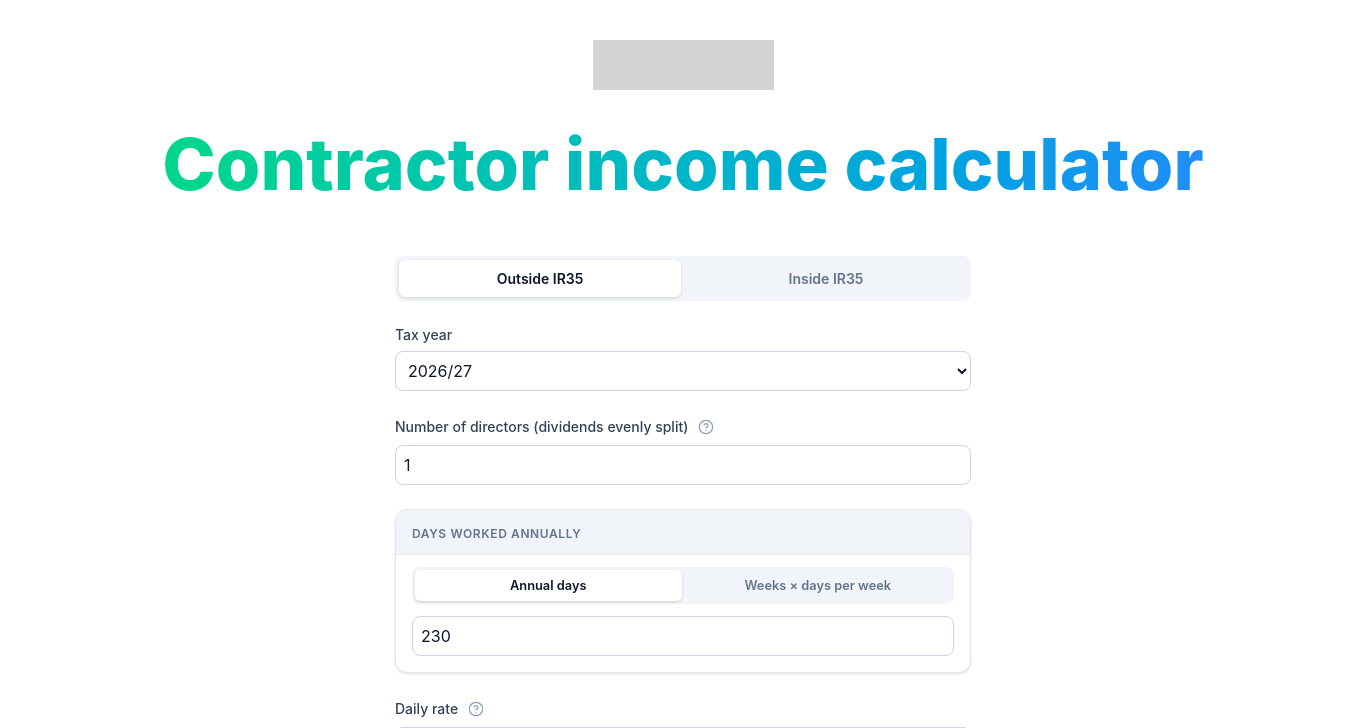
Test: inside IR35: employer NI tooltip shows on hover
This screenshot has width=1366, height=728.
Step 1. Click the button "Inside IR35" → (826, 278), box [685,260,967,297]
(page scrolled)
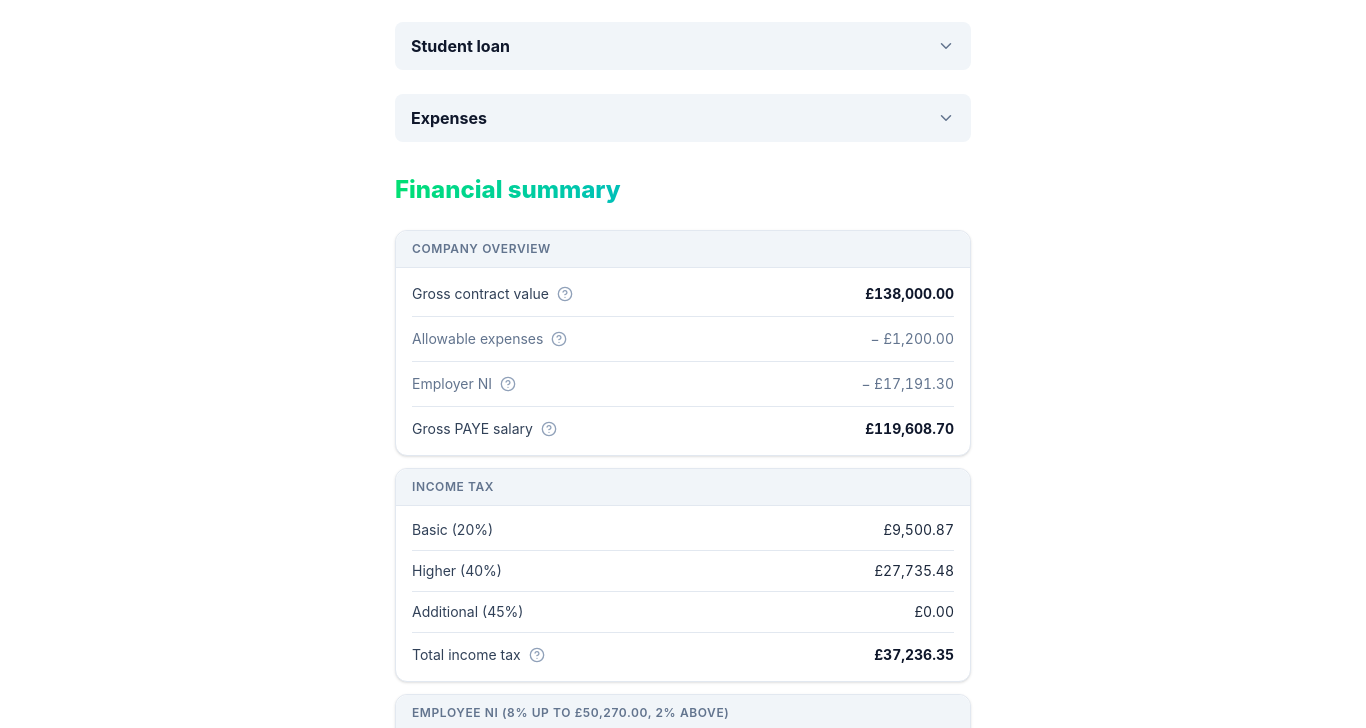
Step 2. Hover over the button named "Employer NI information" → (508, 384), box [496,372,520,396]
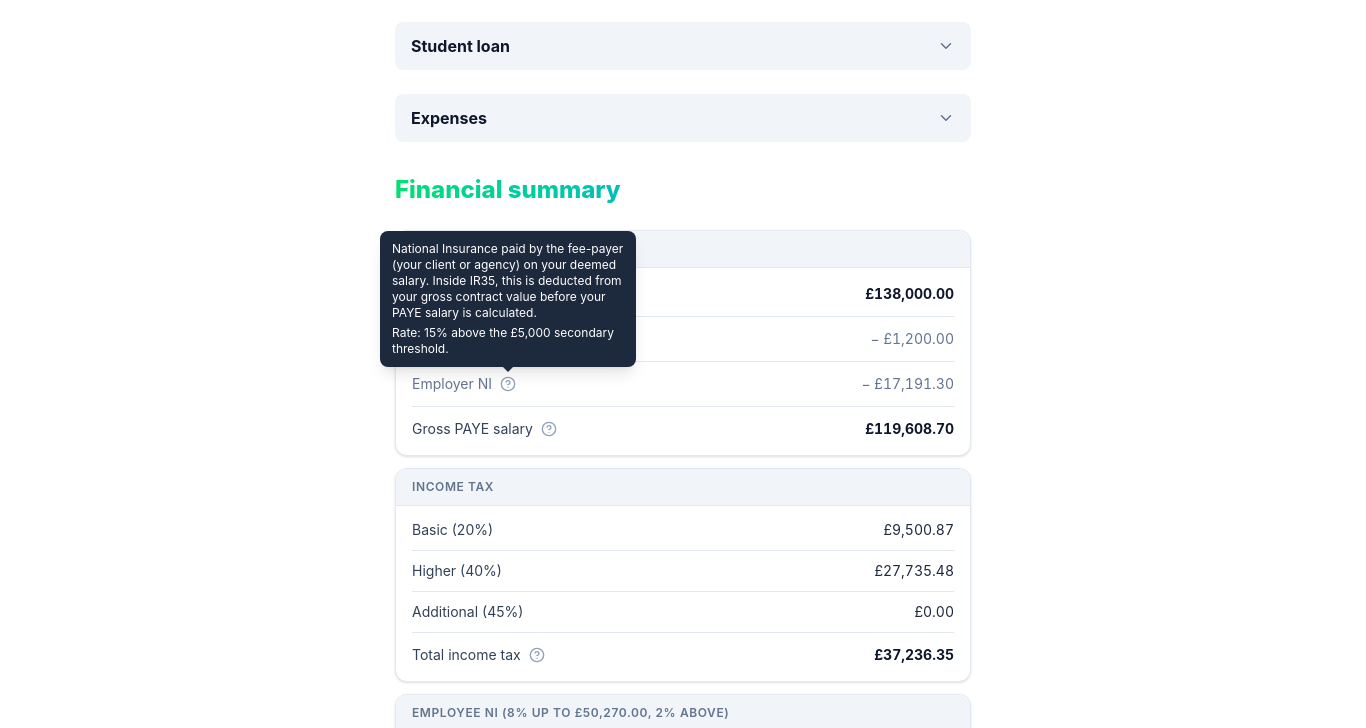
Check: the tooltip is shown, box [380,231,636,367]
